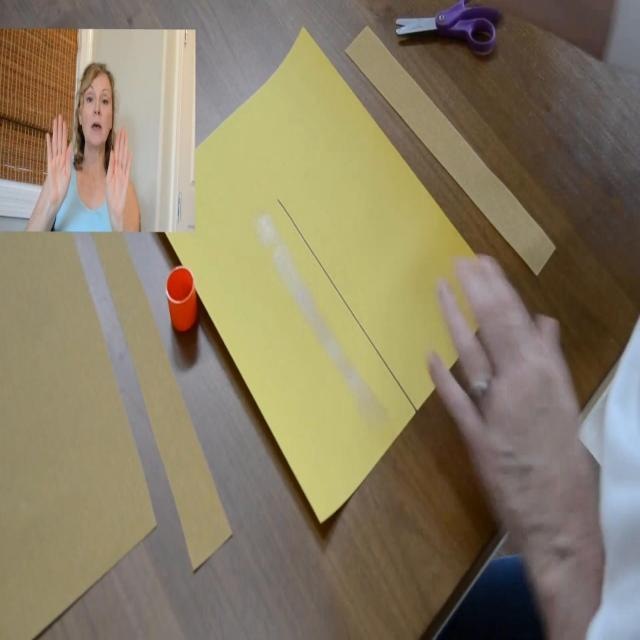scissor: (395, 0, 501, 52)
